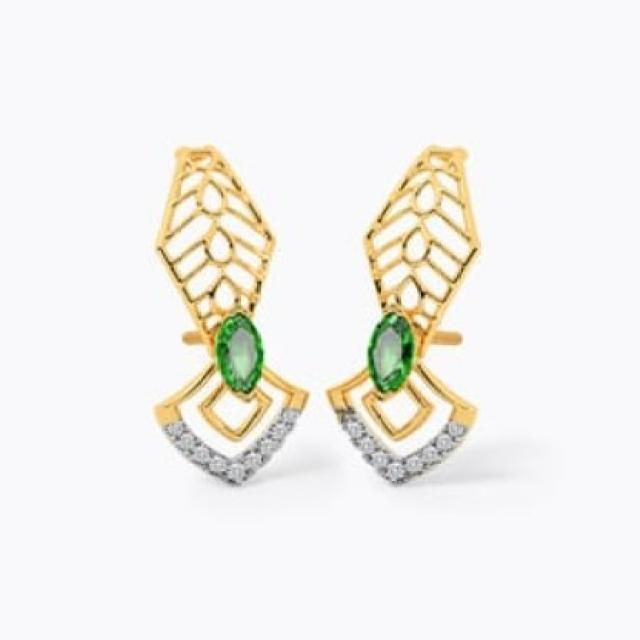missing gem: (332, 406, 360, 439)
